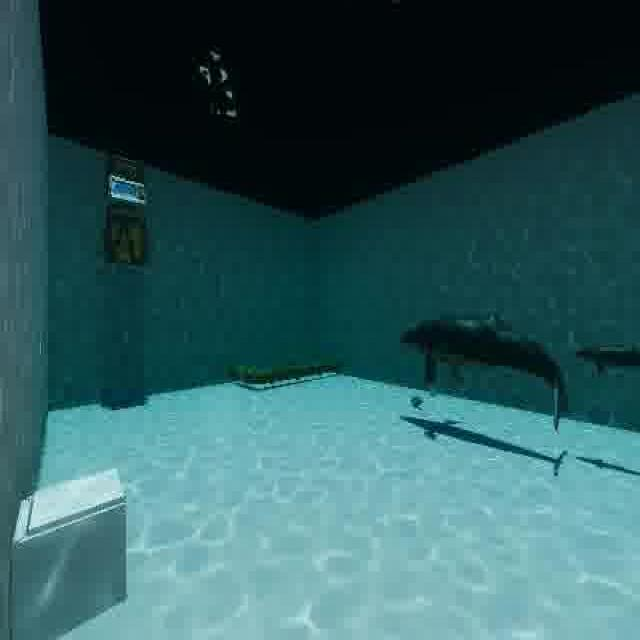Control Panel: (94, 155, 156, 280)
Pipe: (222, 343, 356, 399)
Whale: (401, 307, 573, 453), (568, 318, 640, 396)
